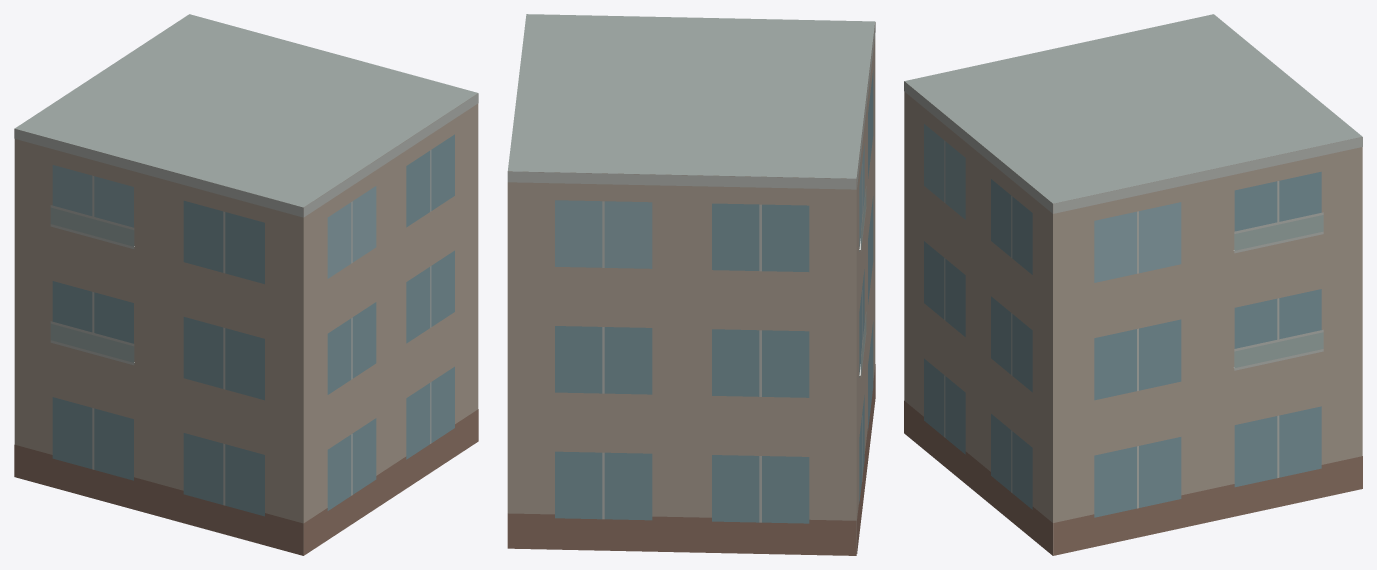
File: survey-upis-32497683.glb
The picture shows the model from 3 angles, left to right: view 1: azimuth 30°, elevation 25°; view 2: azimuth 150°, elevation 25°; view 3: azimuth 270°, elevation 25°; orthographic projection. The views are drawn at different scales.
Parts seen in each view (by area): view 1: survey-upis-32497683.tmp; view 2: survey-upis-32497683.tmp; view 3: survey-upis-32497683.tmp.
Part boxes in pixels (left/top/right/bottom): survey-upis-32497683.tmp: left=14, top=14, right=478, bottom=555; survey-upis-32497683.tmp: left=507, top=14, right=875, bottom=555; survey-upis-32497683.tmp: left=904, top=14, right=1362, bottom=555.
Bounding box in the file's own units: 9.71 × 8.4 × 9.92.
